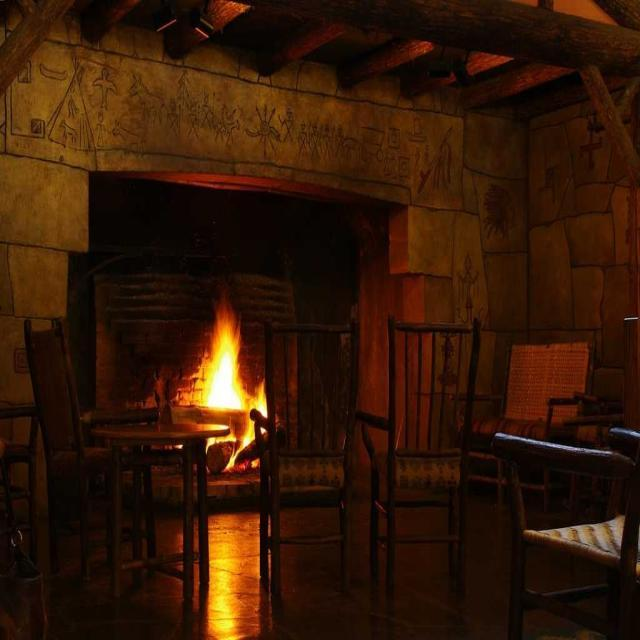Fire: (184, 319, 274, 405)
